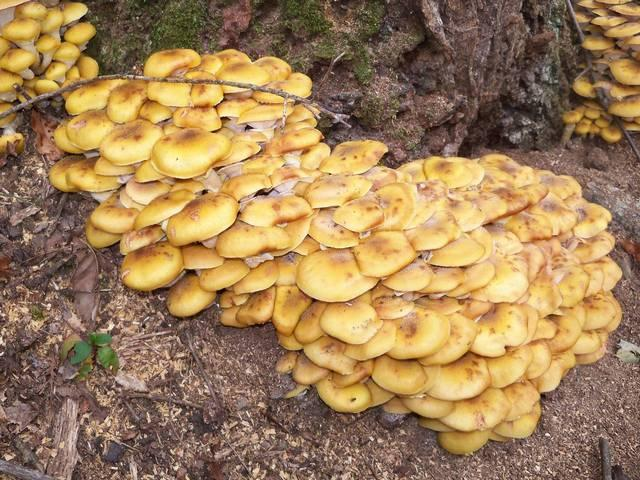edible_mushroom: (37, 45, 624, 455)
